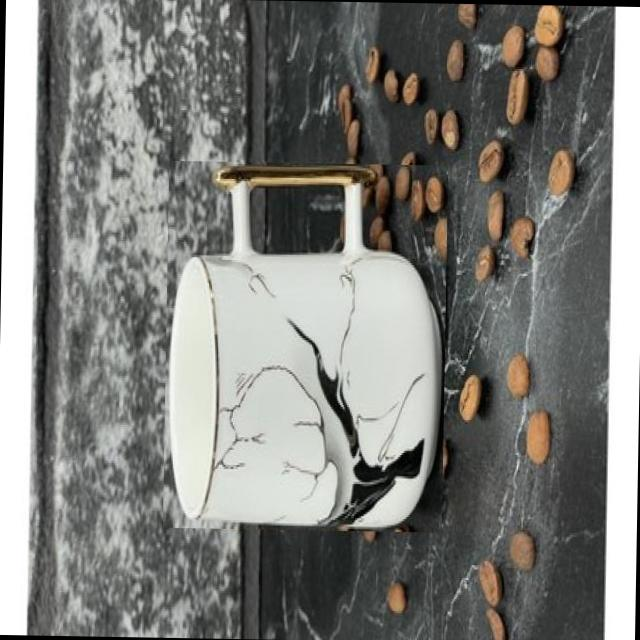Coffee Mug: (162, 159, 448, 531)
